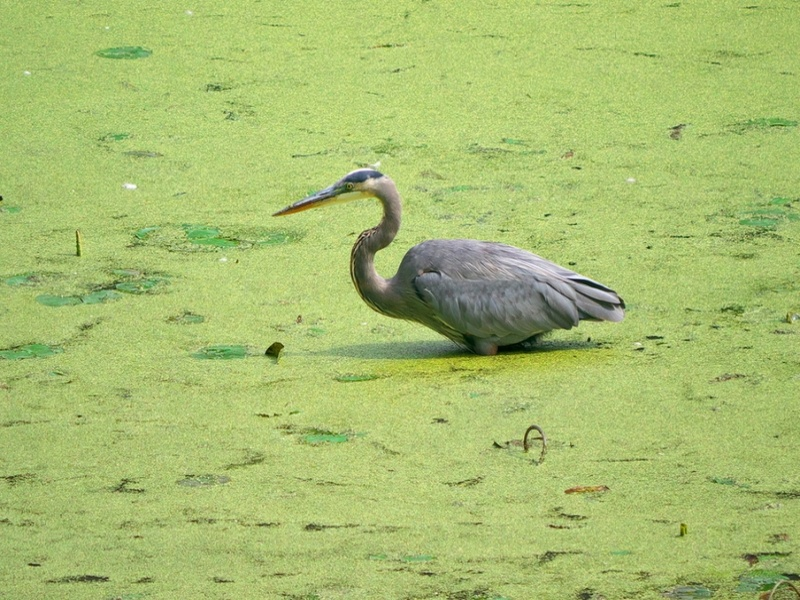heron: (273, 161, 629, 355)
